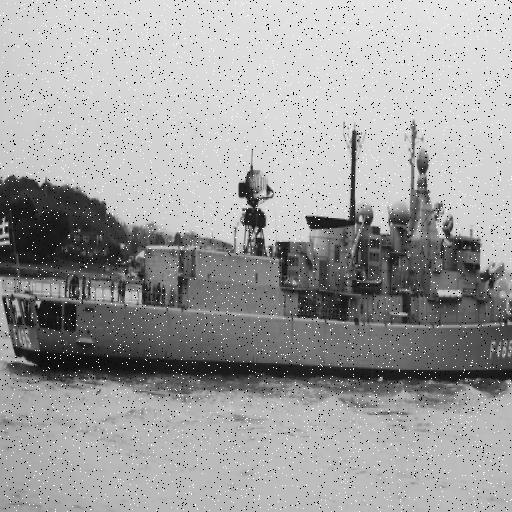Fragata: (1, 114, 512, 382)
